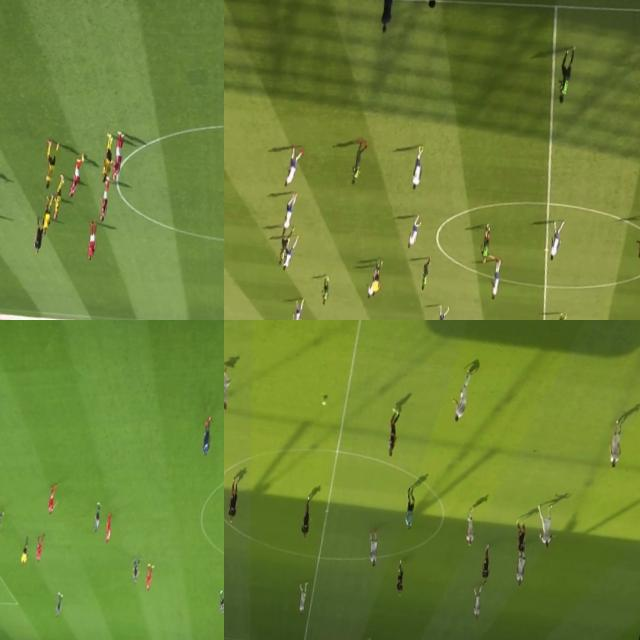ball: (318, 390, 329, 418)
player: (66, 150, 90, 200), (555, 47, 574, 108), (40, 138, 60, 192), (605, 419, 626, 468), (454, 369, 471, 429), (534, 504, 556, 550), (37, 188, 55, 240), (383, 403, 400, 458), (224, 480, 243, 527), (408, 140, 424, 192), (284, 146, 302, 190), (100, 132, 114, 188), (298, 492, 314, 541), (49, 172, 64, 224), (351, 137, 365, 190), (478, 226, 496, 267), (548, 217, 564, 263), (110, 134, 124, 184), (96, 181, 112, 224), (513, 518, 530, 558), (512, 550, 528, 590), (478, 542, 493, 584), (278, 224, 292, 268), (282, 233, 296, 276), (84, 220, 99, 260), (488, 260, 502, 302), (393, 556, 408, 594), (282, 192, 296, 232), (364, 532, 379, 568), (364, 266, 378, 304), (294, 578, 308, 616), (407, 213, 421, 250), (200, 419, 213, 458), (318, 272, 332, 308), (462, 508, 476, 544), (470, 582, 482, 624), (419, 259, 431, 293), (224, 366, 232, 412), (91, 503, 103, 532), (46, 485, 58, 514), (129, 558, 142, 584), (143, 562, 153, 594), (104, 516, 114, 544), (34, 535, 44, 562), (291, 297, 302, 320), (435, 301, 447, 320), (54, 592, 62, 618), (215, 591, 224, 612), (636, 217, 640, 260), (553, 310, 566, 320), (0, 507, 4, 536)
